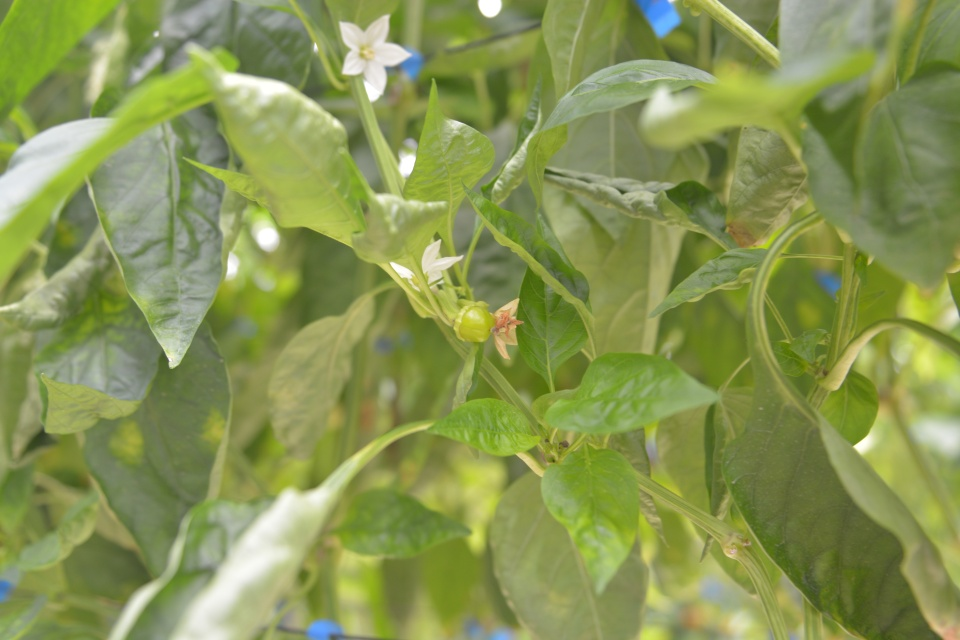flower: (336, 10, 415, 98), (387, 237, 464, 293)
